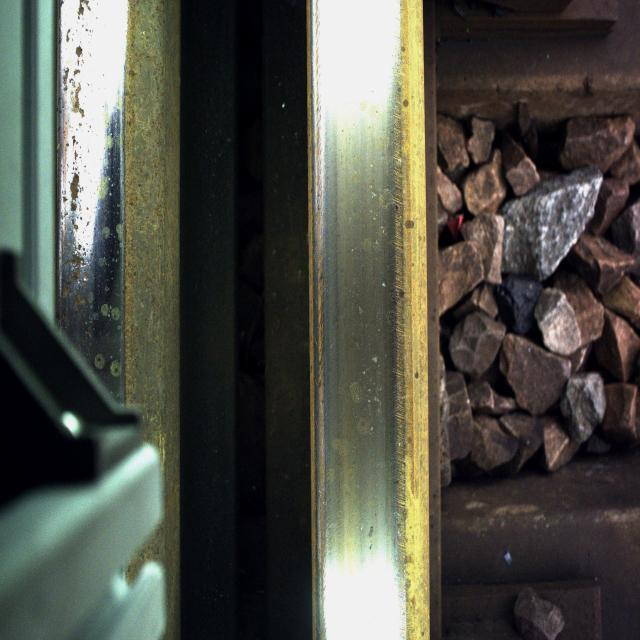normal: (319, 20, 391, 604)
scar: (54, 0, 121, 354)
